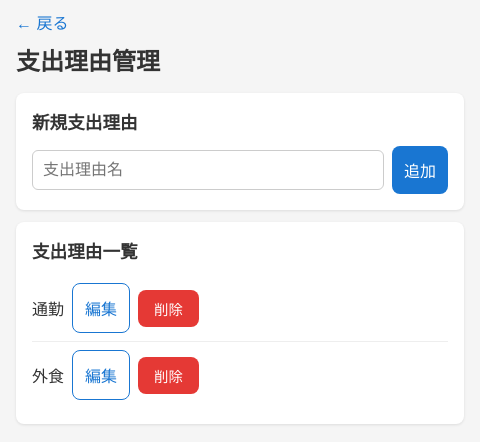
Test case: TagManage › 編集をキャンセルできる
Expected: the text "通勤" is shown, [32,296,64,320]
Click the button "編集" next to "通勤" at {"x": 101, "y": 308}, box [72,283,130,333]
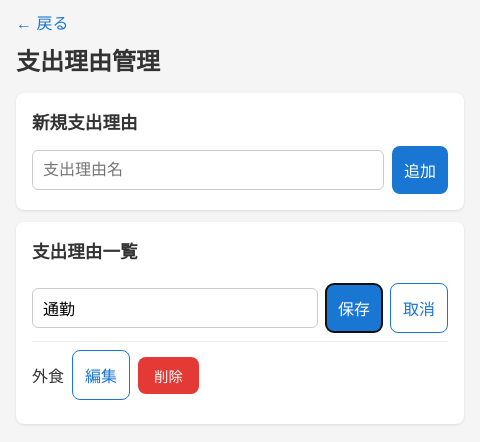
Result: the field showing "通勤" is shown at [32,288,318,328]
Click the button "取消" at {"x": 419, "y": 308}, box [390,283,448,333]
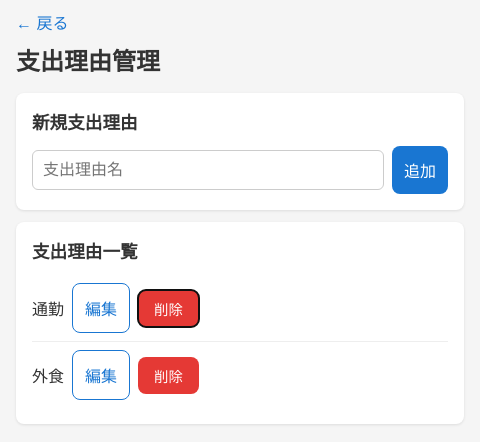
Result: the text "通勤" is shown at [32,296,64,320]
